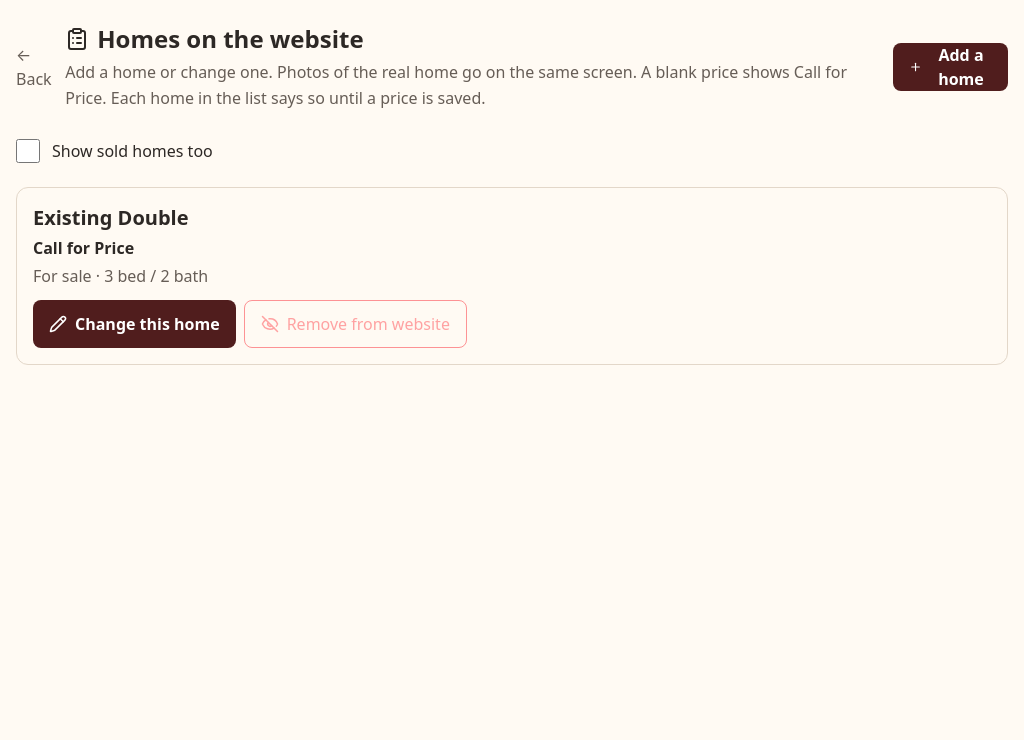
it: saves an existing home with null optional strings without losing its specifications
Click the button "Change this home". click: (134, 324)
box: [33,300,236,348]
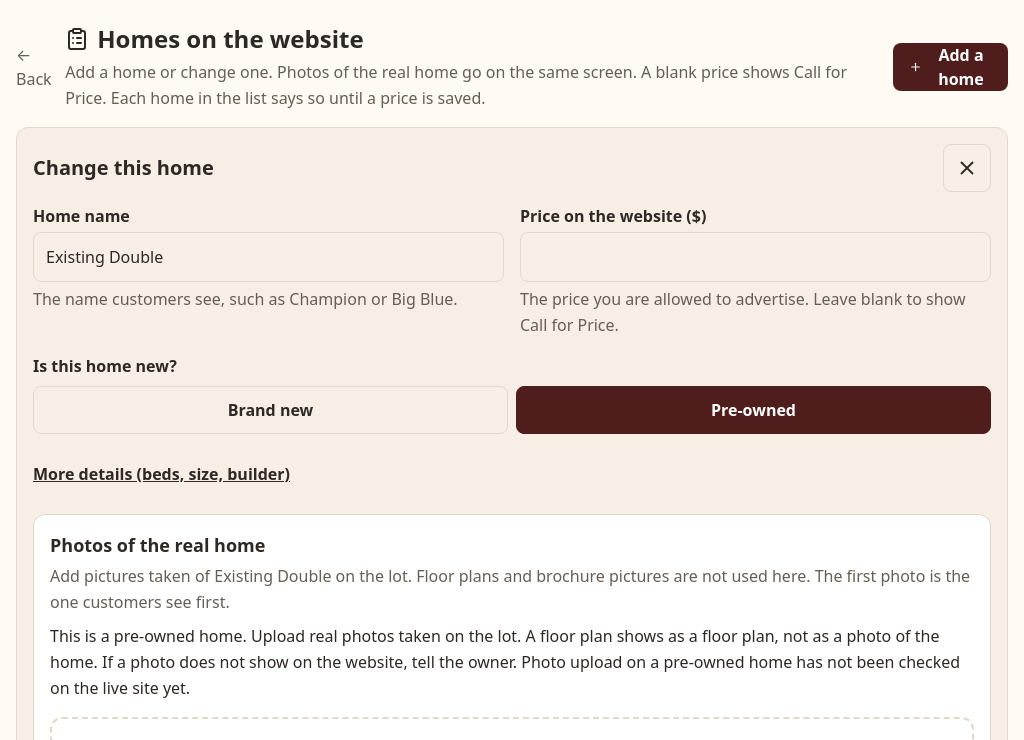
Replace the text in the field labelled "Home name" with "Updated Double". click: (268, 257)
box: [33,232,504,282]
(page scrolled)
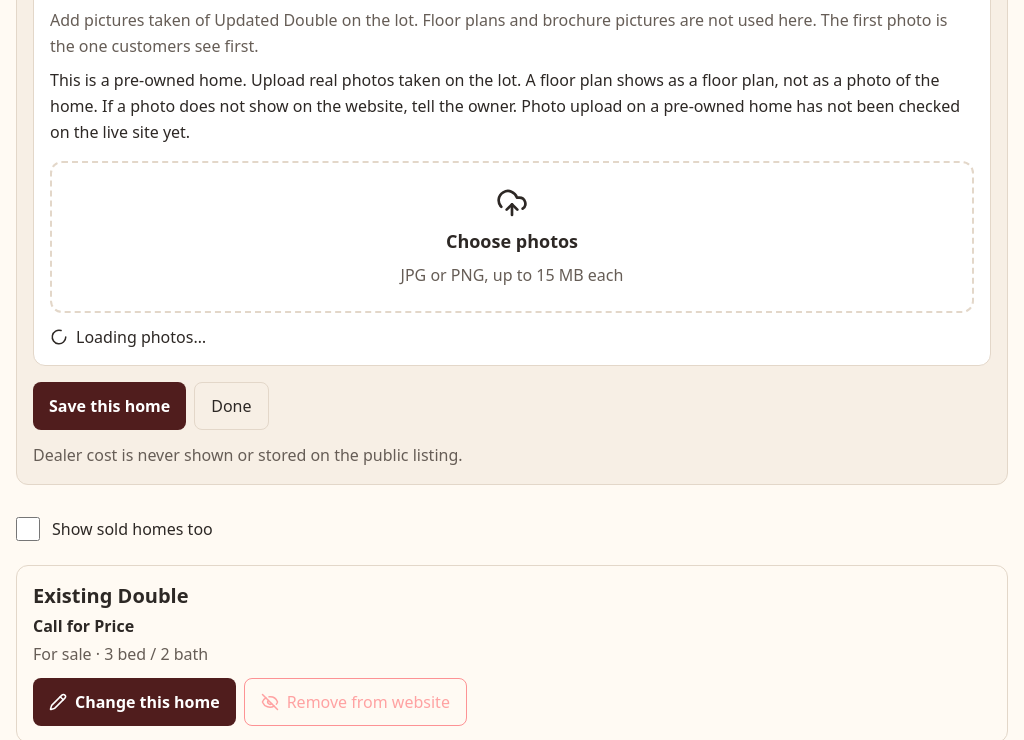
Click the button "Save this home". click: (110, 406)
box: [33,382,186,430]
(page scrolled)
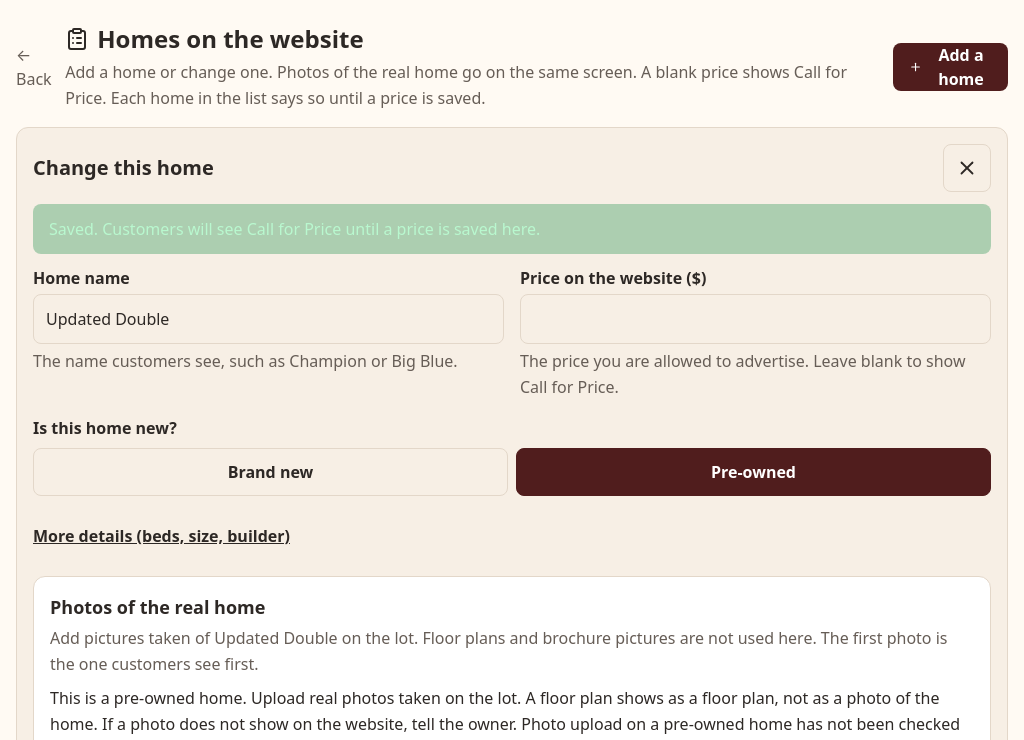
expect the text "Saved. Customers will see Call for Price until a price is saved here." is shown: met, box [33,204,991,254]
